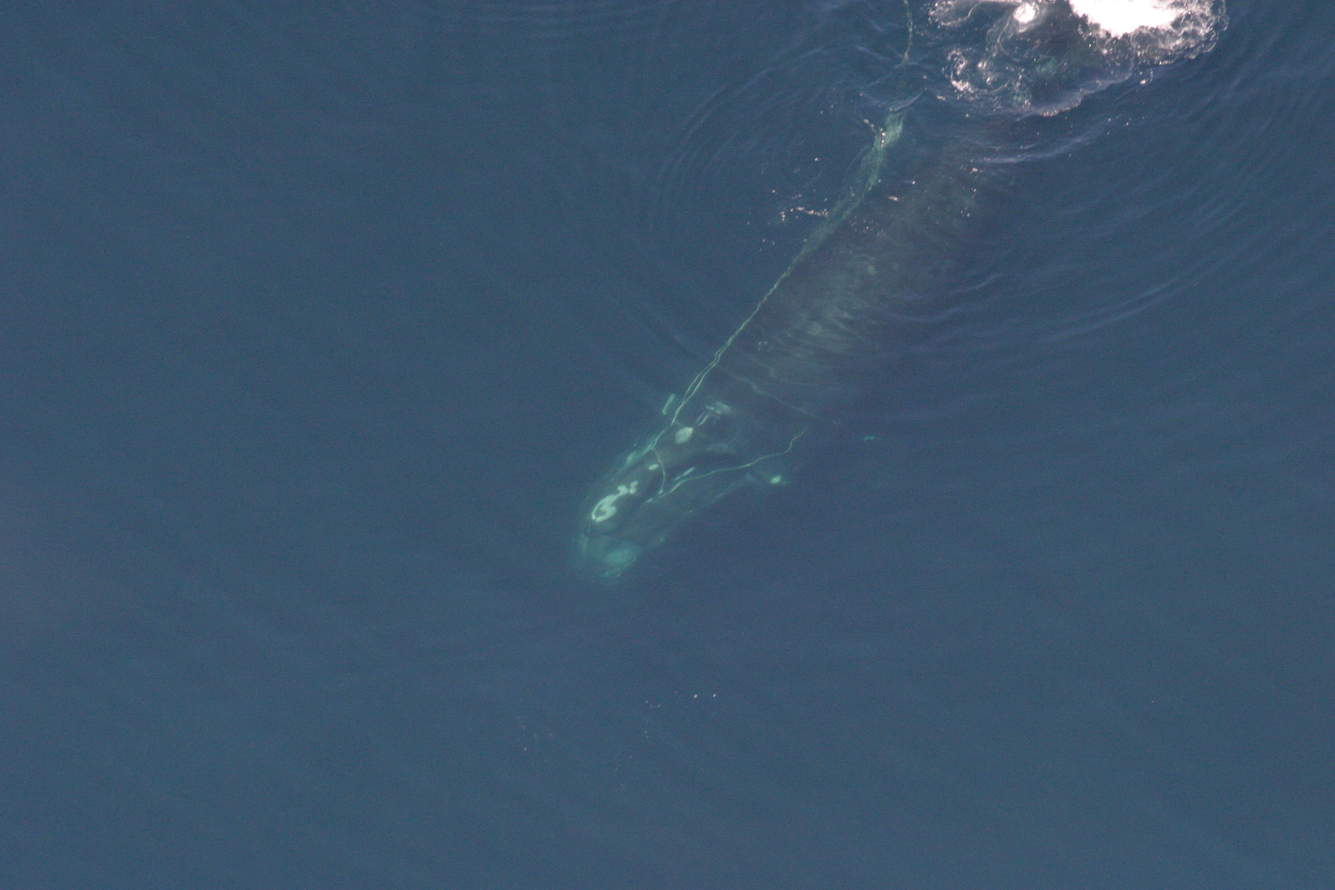whale: (560, 0, 1075, 598)
